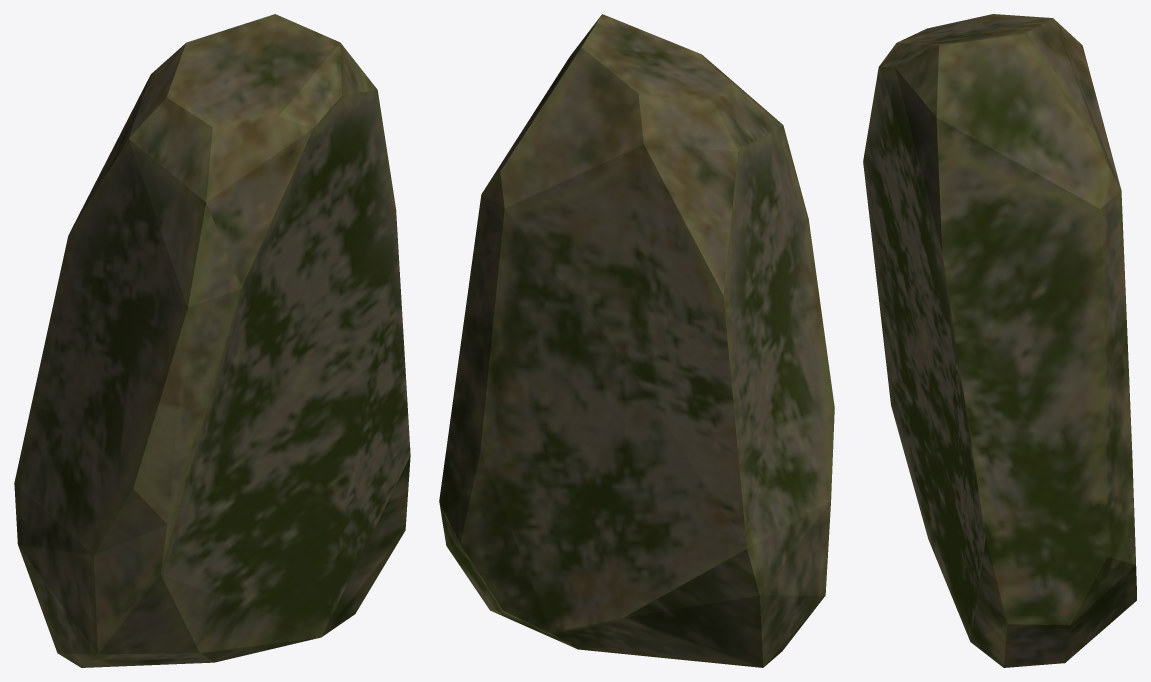
The model's file is mossy rocks6.fbx.
3 views of the same model, side by side, from view 1: azimuth 30°, elevation 25°; view 2: azimuth 150°, elevation 25°; view 3: azimuth 270°, elevation 25° (orthographic). The views are drawn at different scales.
Visible parts, largest first — view 1: Mossy_Rock3_M_Mossy_Rock_0; view 2: Mossy_Rock3_M_Mossy_Rock_0; view 3: Mossy_Rock3_M_Mossy_Rock_0.
Boxes of the visible parts, x1,y1,x2,y2 form: Mossy_Rock3_M_Mossy_Rock_0: (14, 14, 410, 667); Mossy_Rock3_M_Mossy_Rock_0: (439, 14, 834, 667); Mossy_Rock3_M_Mossy_Rock_0: (863, 14, 1136, 667).
Bounding box in the file's own units: 52.55 × 88.77 × 36.65.
Materials: 1 (1 with a texture image).
